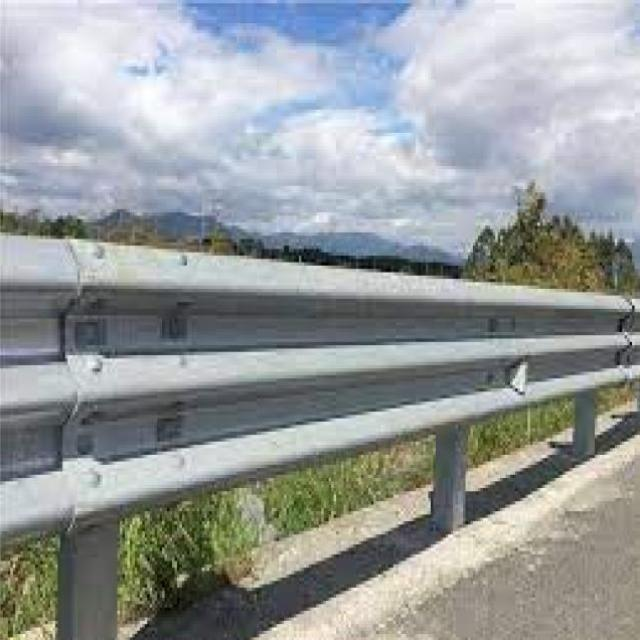Guard rail: (0, 235, 640, 535)
